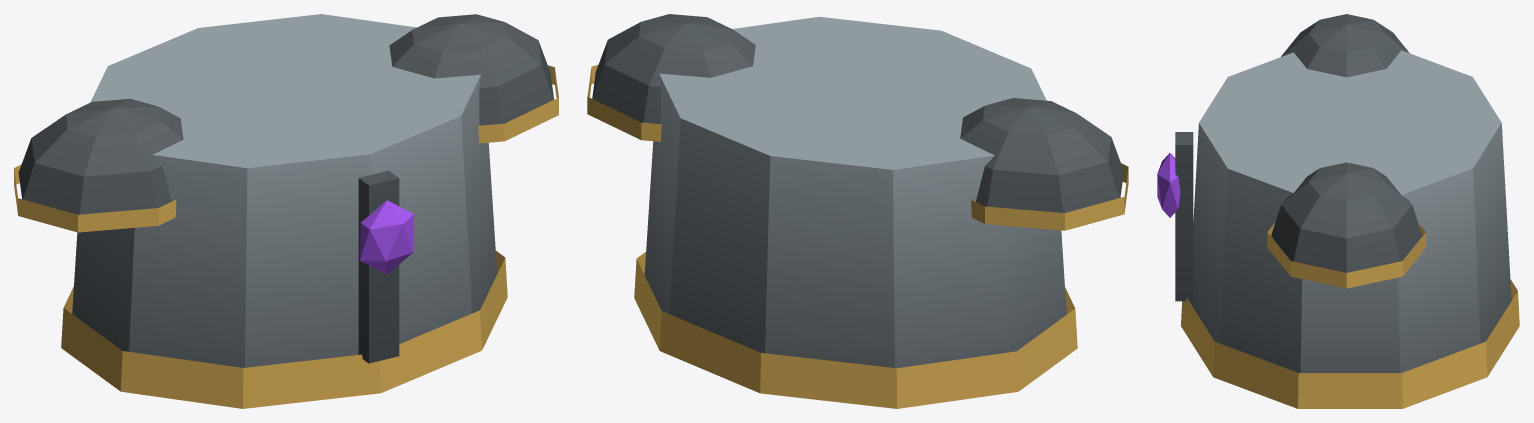
Rendered from berserker_guard_chest_t3.glb.
3 renders of one model, left to right at view 1: azimuth 30°, elevation 25°; view 2: azimuth 150°, elevation 25°; view 3: azimuth 270°, elevation 25°, orthographic. The views are drawn at different scales.
Visible parts, largest first — view 1: berserker_guard_chest_t3__chest; view 2: berserker_guard_chest_t3__chest; view 3: berserker_guard_chest_t3__chest.
Boxes of the visible parts, bbox=[...] form: berserker_guard_chest_t3__chest: bbox=[14, 14, 558, 408]; berserker_guard_chest_t3__chest: bbox=[587, 14, 1128, 408]; berserker_guard_chest_t3__chest: bbox=[1157, 14, 1519, 408].
Bounding box in the file's own units: 3.23 × 1.49 × 2.16.
2 materials, 1 textured.
